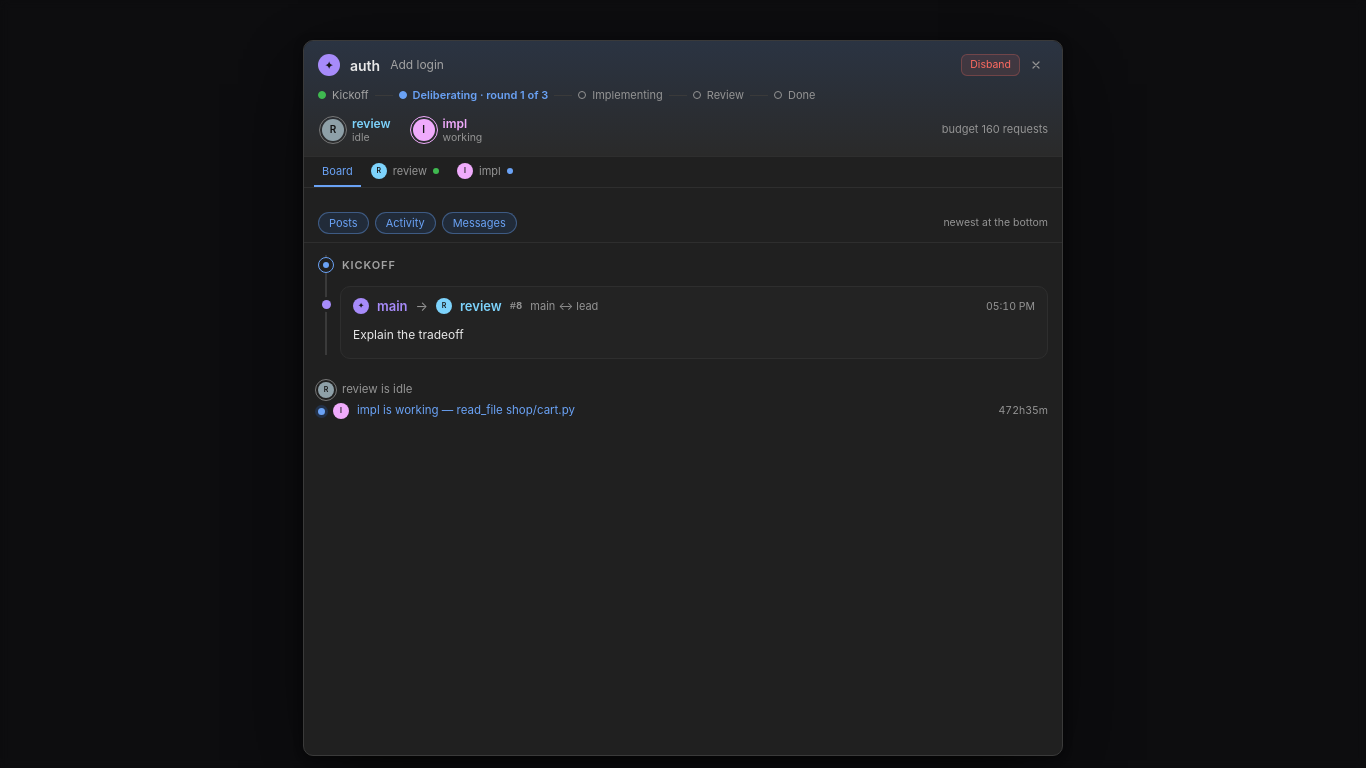
Test: published team deliverables and directed communication › labels main-lead messages and keeps the existing Messages filter
Expected: the text "main ↔ lead" is shown, x1=530 y1=298 x2=598 y2=315
Expected: the text "Explain the tradeoff" is shown, x1=353 y1=327 x2=464 y2=342
Click the button "Messages": (479, 223) x1=442 y1=212 x2=517 y2=234
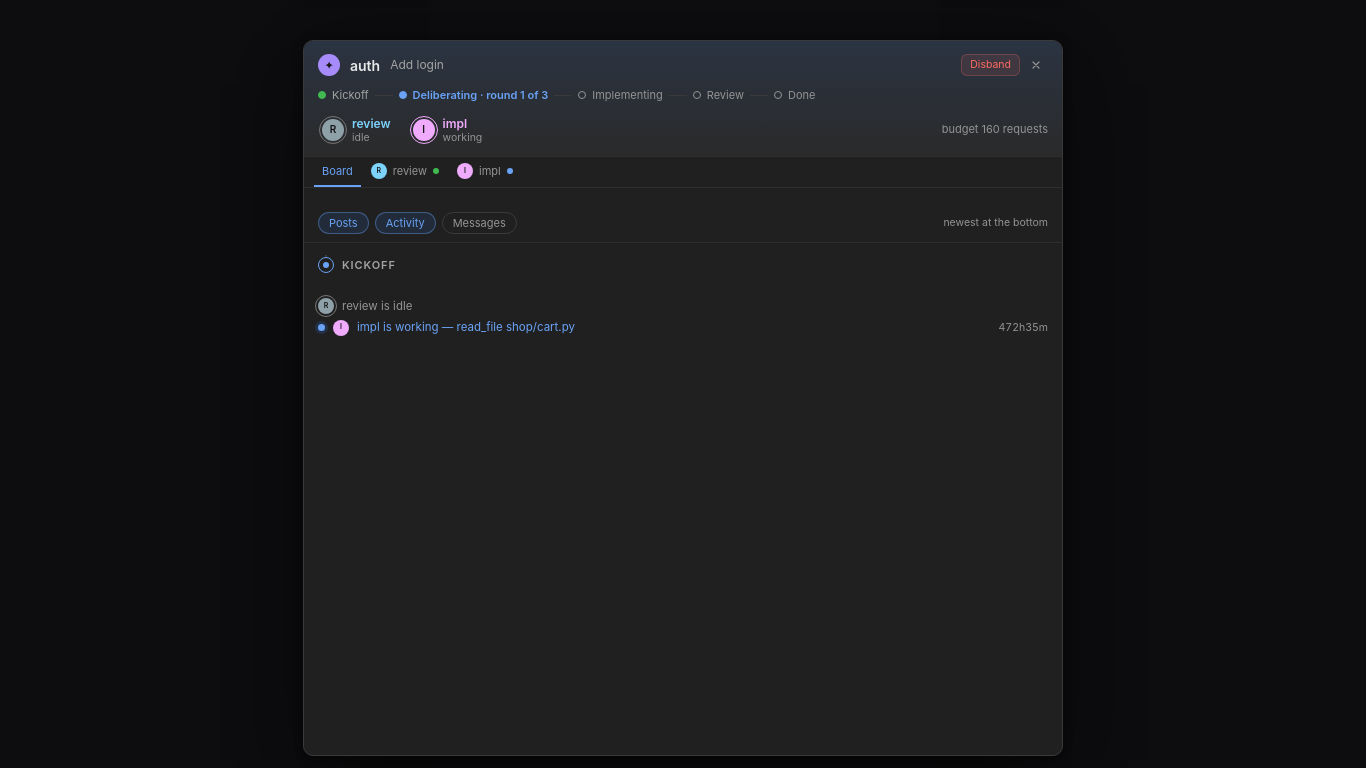
Expected: the text "Explain the tradeoff" is gone
